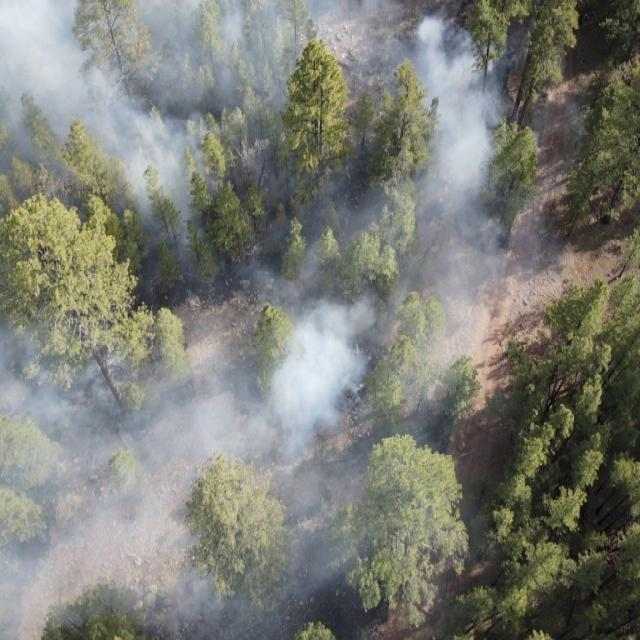smoke: (1, 300, 460, 640), (0, 0, 406, 212), (408, 12, 514, 209), (364, 210, 516, 345), (248, 218, 360, 300), (142, 213, 232, 265)
